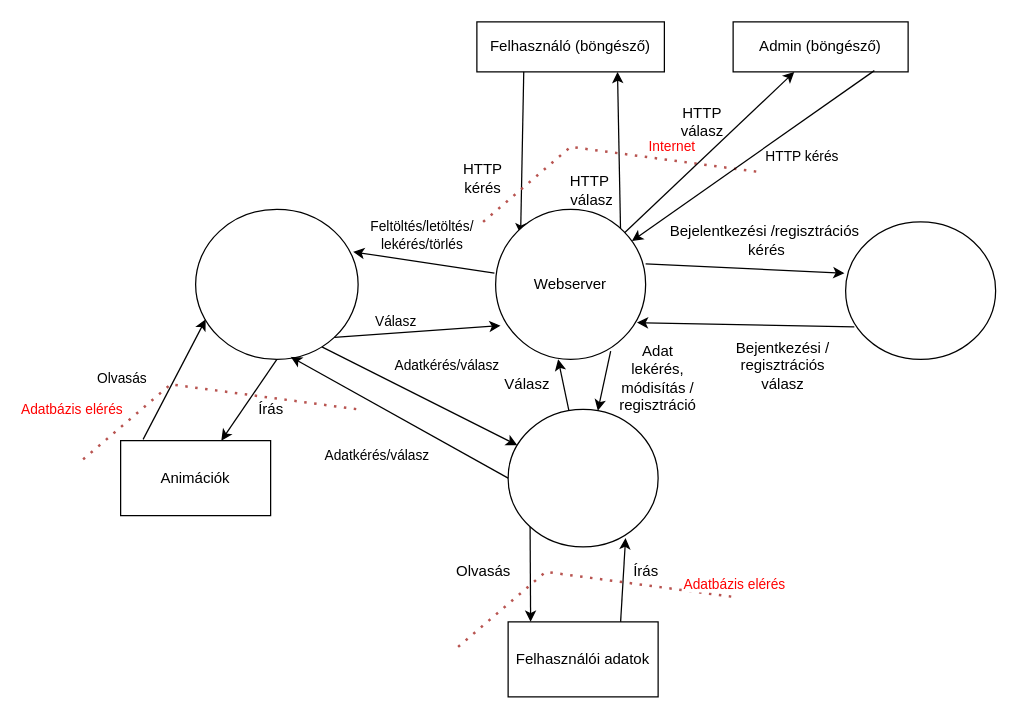
This 1019x719 diagram has some shape labels left out. Here are the shapes that lost their labels. From the top down, the centre of each, then its label:
At point 276,283: "Animáció-kezelő".
At point 920,290: "Authentikációs komponens".
At point 582,477: "Felhasználói adatkezelő".
